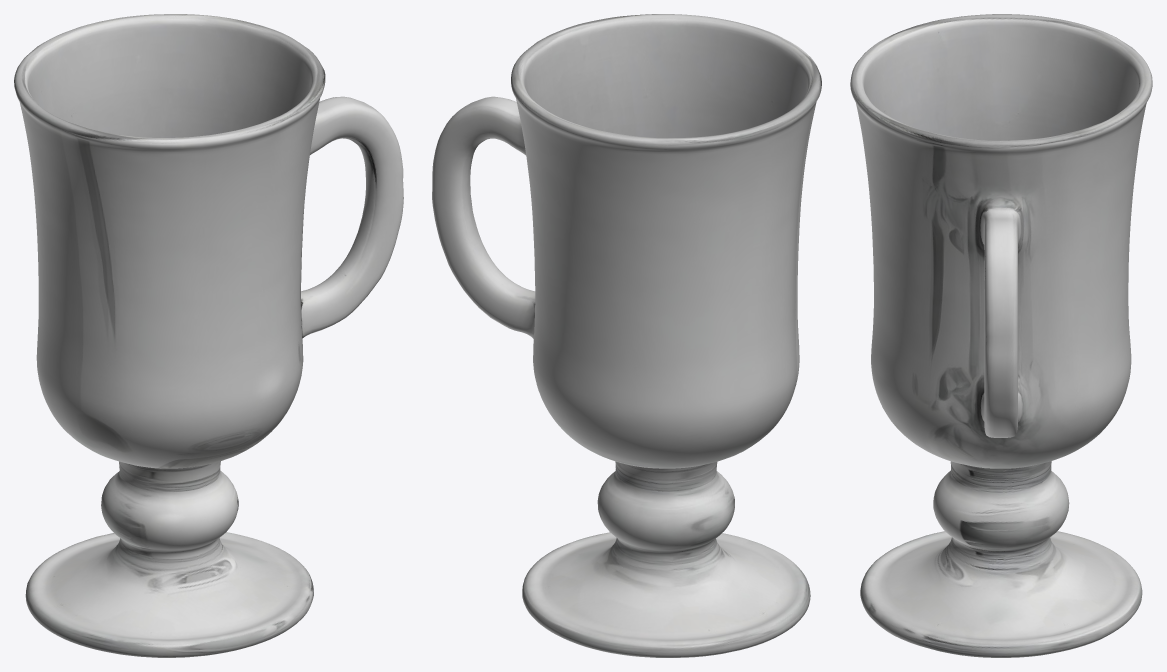
The model's file is model_irish_coffee_glass.glb.
The picture shows the model from 3 angles, left to right: view 1: azimuth 30°, elevation 25°; view 2: azimuth 150°, elevation 25°; view 3: azimuth 270°, elevation 25°; orthographic projection.
Visible parts, largest first — view 1: tripo_node_58c385d4-c80f-4959-911c-a057f8e68ce7; view 2: tripo_node_58c385d4-c80f-4959-911c-a057f8e68ce7; view 3: tripo_node_58c385d4-c80f-4959-911c-a057f8e68ce7.
Part boxes in pixels (box(x1,y1,x2,y2)): tripo_node_58c385d4-c80f-4959-911c-a057f8e68ce7: box(14, 14, 403, 657); tripo_node_58c385d4-c80f-4959-911c-a057f8e68ce7: box(432, 14, 821, 657); tripo_node_58c385d4-c80f-4959-911c-a057f8e68ce7: box(850, 14, 1152, 657).
Size of the model in its own units: 0.7279 by 0.9997 by 0.5253.
1 material, 1 textured.
